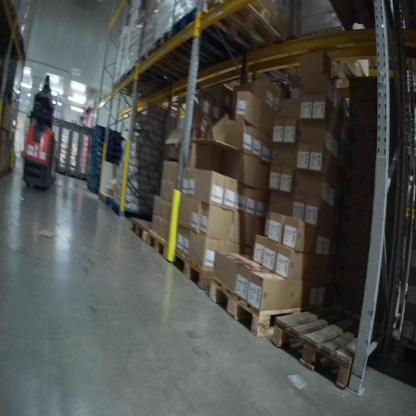pallet: (271, 295, 379, 392), (206, 272, 334, 340), (204, 1, 298, 57), (172, 5, 253, 67), (154, 27, 213, 74), (170, 246, 218, 292), (141, 44, 187, 85), (125, 58, 172, 92), (111, 72, 158, 106), (106, 196, 156, 227), (147, 224, 174, 262), (129, 216, 160, 249)
pallet_truck: (18, 35, 70, 199)
